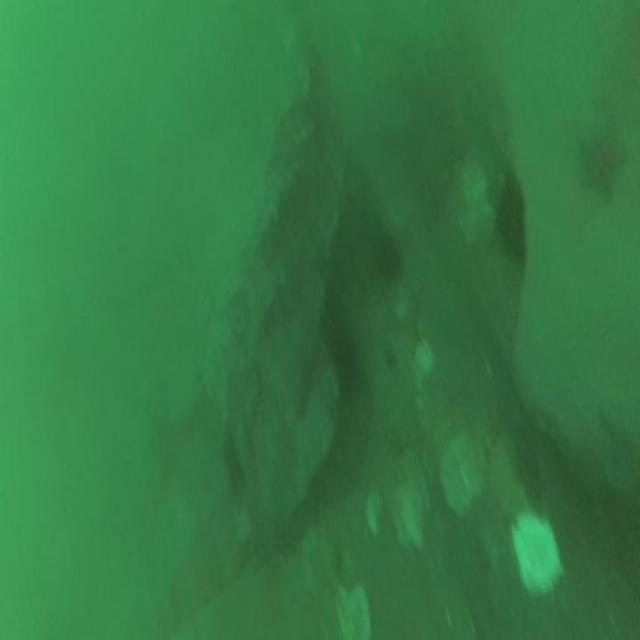echinus: (491, 170, 536, 266), (378, 228, 406, 289)
scallop: (386, 442, 432, 558), (510, 506, 564, 604), (438, 419, 486, 520)
starfish: (574, 114, 636, 212)
